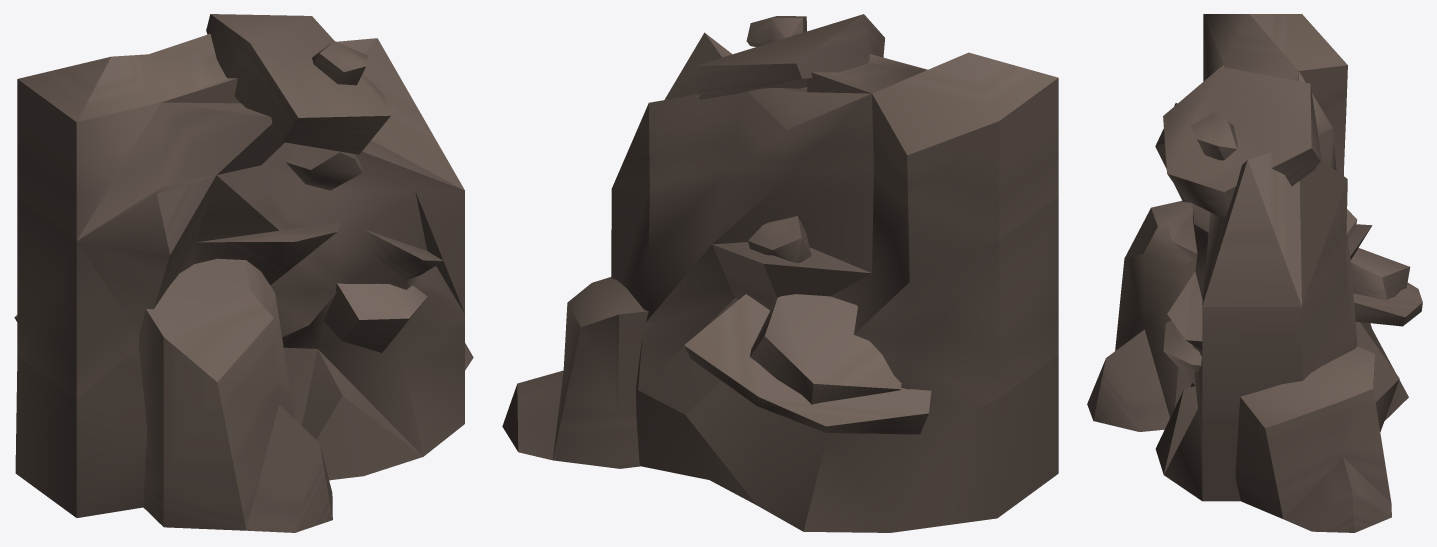
Rendered from rubble_half.glb.
3 views of the same model, side by side, from view 1: azimuth 30°, elevation 25°; view 2: azimuth 150°, elevation 25°; view 3: azimuth 270°, elevation 25° (orthographic). The views are drawn at different scales.
Visible parts, largest first — view 1: rubble_half; view 2: rubble_half; view 3: rubble_half.
Boxes of the visible parts, x1=… form: rubble_half: x1=14, y1=14, x2=473, y2=532; rubble_half: x1=502, y1=14, x2=1058, y2=532; rubble_half: x1=1087, y1=14, x2=1422, y2=532.
Bounding box in the file's own units: 4 × 3.5 × 3.
Materials: 1 (1 with a texture image).
